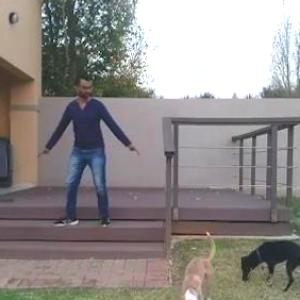land: (48, 74, 121, 238)
